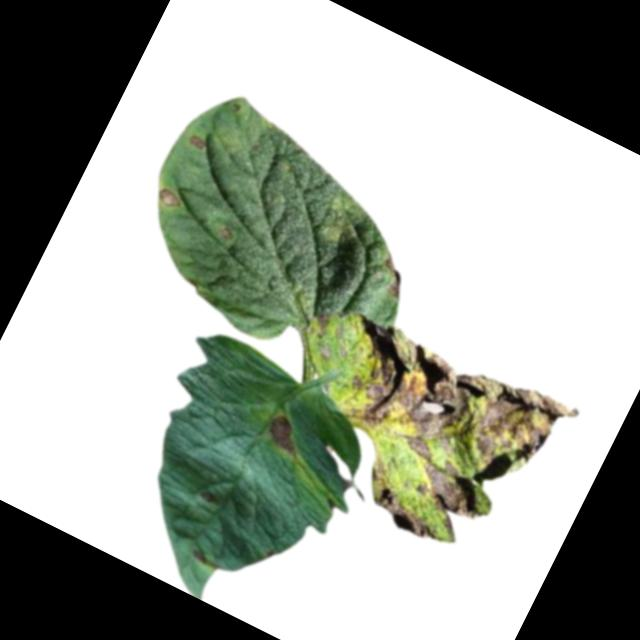Early_blight: (299, 302, 581, 543), (369, 482, 452, 547), (259, 409, 308, 457), (372, 251, 414, 298), (151, 181, 187, 215), (311, 307, 337, 336), (187, 544, 211, 567), (195, 486, 219, 506), (187, 132, 207, 150)
